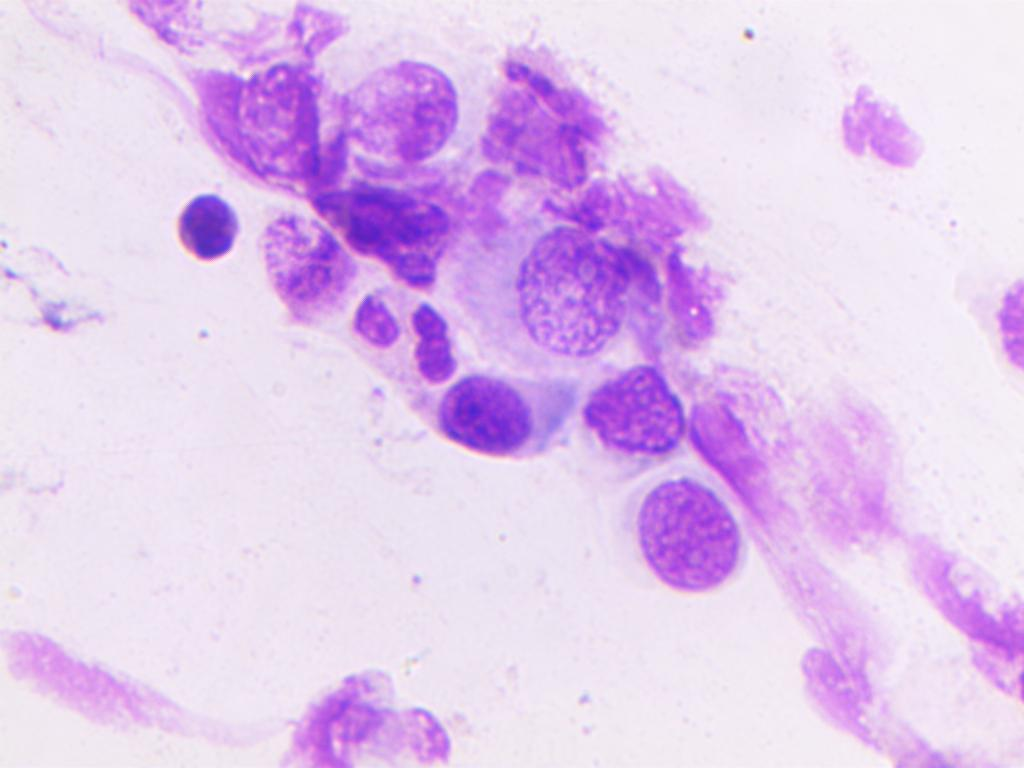artifact: (171, 49, 333, 203), (466, 42, 604, 210), (262, 658, 464, 768), (314, 182, 460, 287), (826, 80, 927, 179)
epithelial: (448, 226, 631, 369), (606, 470, 756, 594), (419, 367, 581, 468), (340, 51, 457, 165), (246, 214, 356, 320), (580, 362, 682, 462)
neutrophil: (343, 279, 462, 390), (171, 183, 247, 268)
